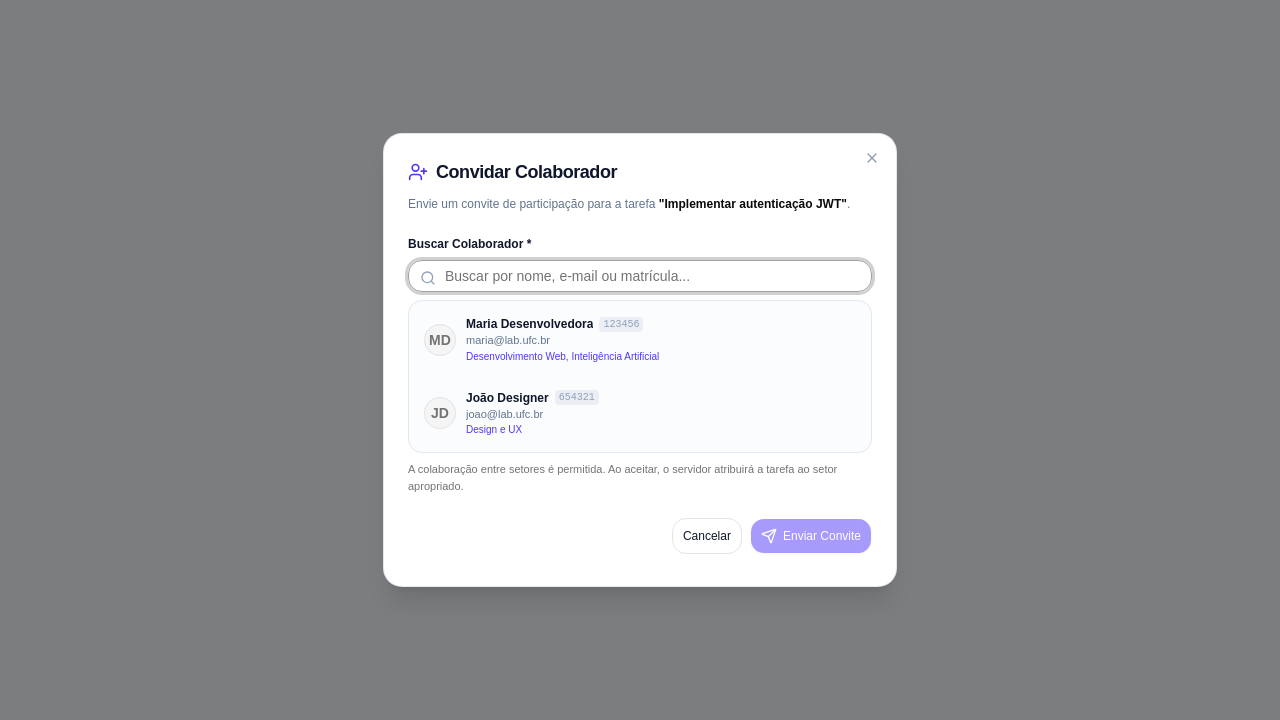
Scenario: InviteCollaboratorModal › exibe alerta de erro quando a API rejeita a atribuição
Click the text "Maria Desenvolvedora" at {"x": 530, "y": 324}, box [466,316,593,332]
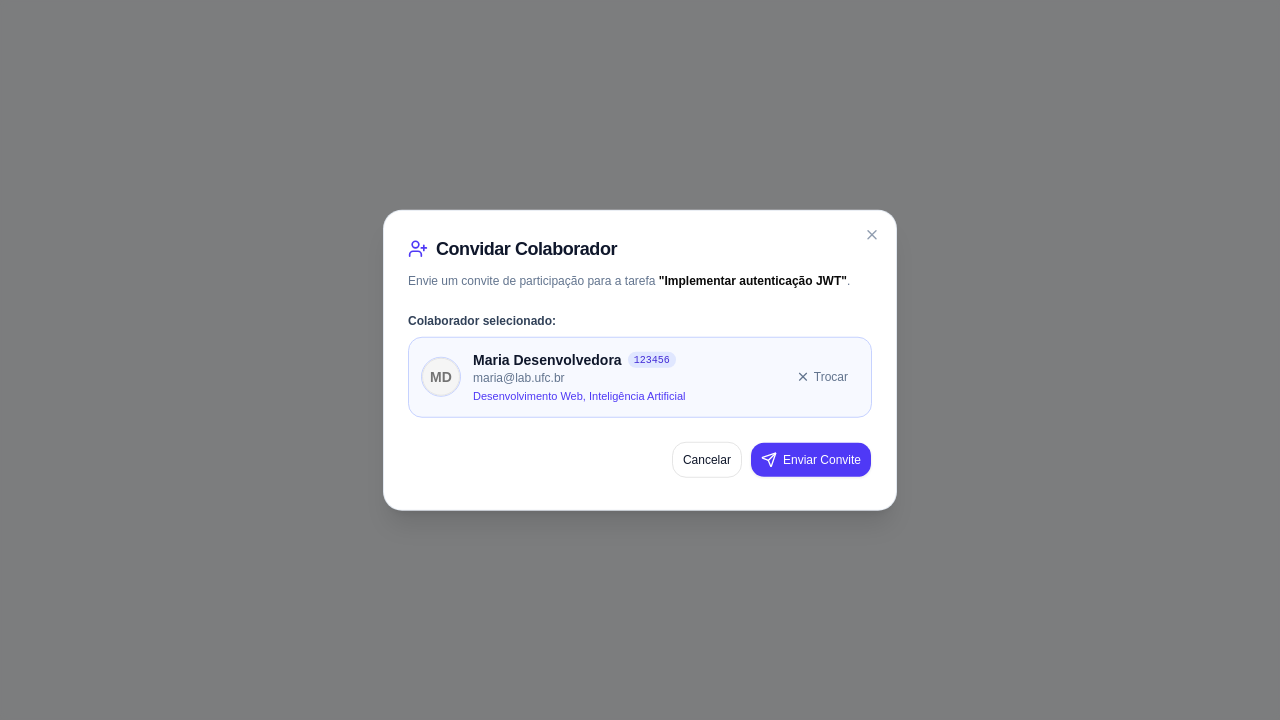
Click the button "Enviar Convite" at {"x": 811, "y": 459}, box [750,441,872,477]
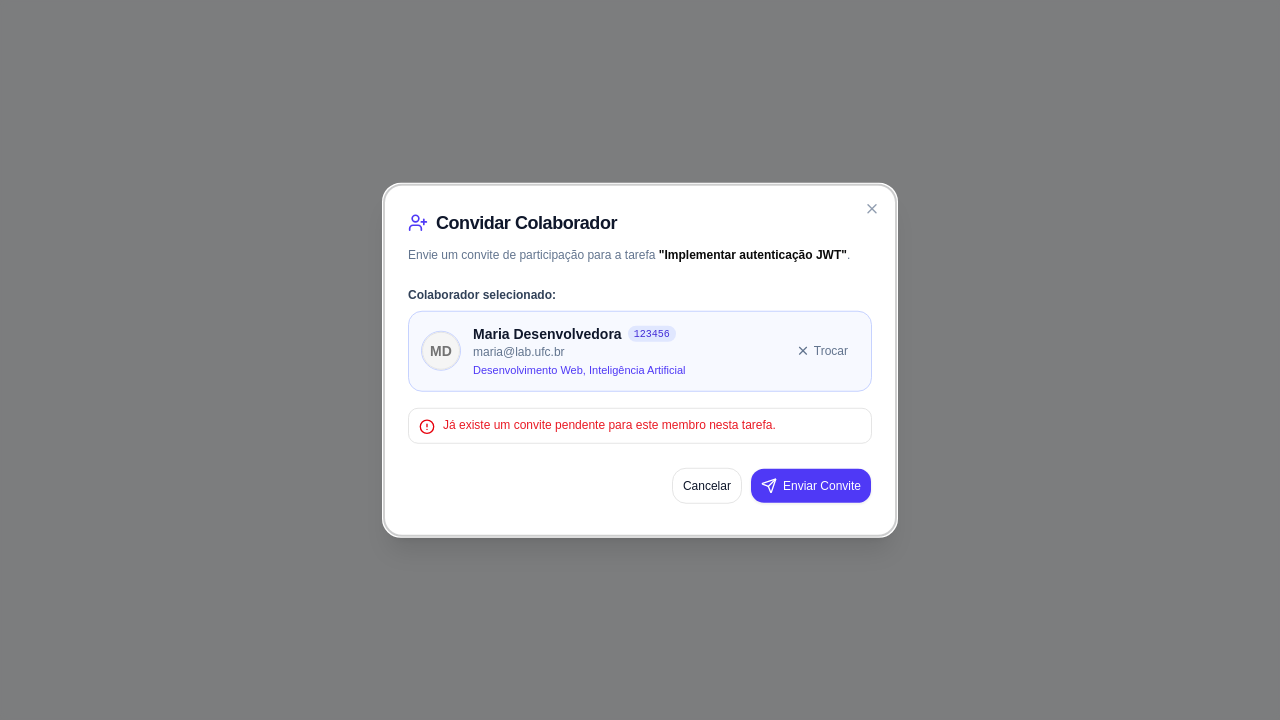
Result: the text "Já existe um convite pendente para este membro nesta tarefa." is shown at [443,417,776,431]
